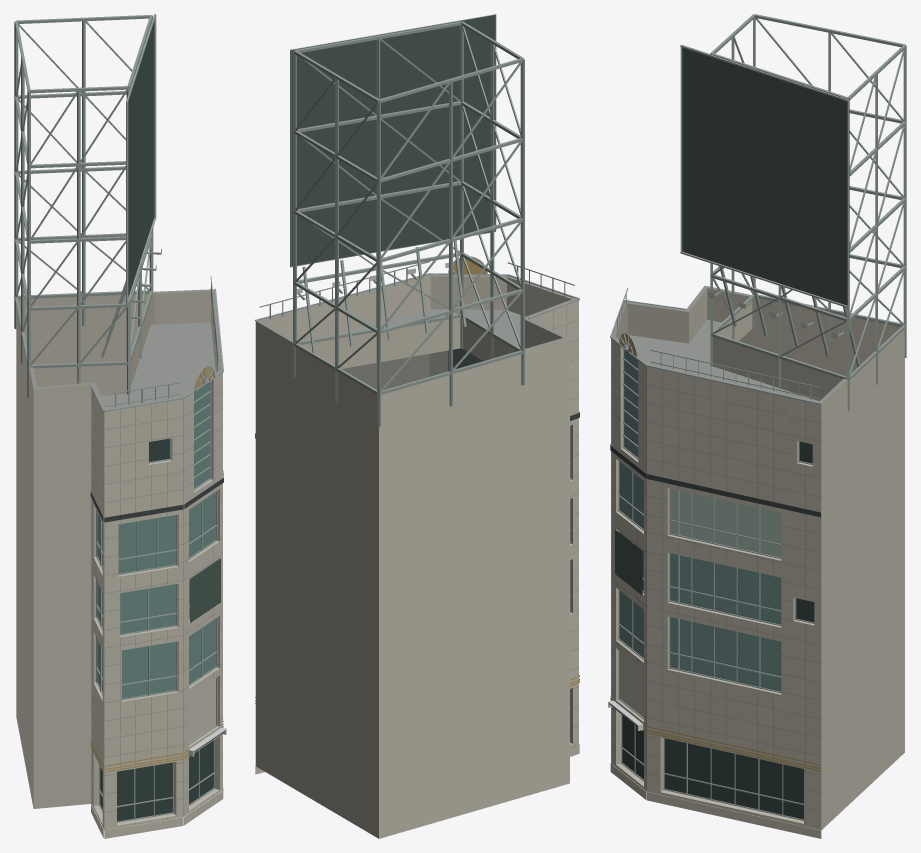
File: center244.glb
The picture shows the model from 3 angles, left to right: view 1: azimuth 30°, elevation 25°; view 2: azimuth 150°, elevation 25°; view 3: azimuth 270°, elevation 25°; orthographic projection. The views are drawn at different scales.
Visible parts, largest first — view 1: c244_stone_dark, c244_stone, c244_steel, c244_glass, c244_stone_light, c244_frame, c244_screen_back, c244_roof, c244_glass_dark, c244_joint, c244_reveal, c244_gold; view 2: c244_stone_dark, c244_screen_back, c244_steel, c244_joint, c244_roof, c244_stone, c244_frame, c244_stone_light; view 3: c244_stone_dark, c244_screen_back, c244_stone, c244_steel, c244_glass, c244_stone_light, c244_frame, c244_glass_dark, c244_blind, c244_joint, c244_roof, c244_reveal (+1 smaller).
Boxes of the visible parts, x1=… form: c244_stone_dark: x1=16, y1=291, x2=223, y2=838; c244_stone: x1=91, y1=373, x2=222, y2=830; c244_steel: x1=14, y1=15, x2=219, y2=407; c244_glass: x1=97, y1=382, x2=215, y2=698; c244_stone_light: x1=91, y1=393, x2=222, y2=824; c244_frame: x1=90, y1=14, x2=223, y2=822; c244_screen_back: x1=126, y1=14, x2=220, y2=622; c244_roof: x1=29, y1=289, x2=222, y2=410; c244_glass_dark: x1=100, y1=438, x2=213, y2=821; c244_joint: x1=92, y1=391, x2=222, y2=827; c244_reveal: x1=90, y1=471, x2=223, y2=522; c244_gold: x1=90, y1=718, x2=223, y2=772; c244_stone_dark: x1=255, y1=276, x2=579, y2=838; c244_screen_back: x1=290, y1=15, x2=495, y2=266; c244_steel: x1=259, y1=21, x2=574, y2=427; c244_joint: x1=255, y1=305, x2=578, y2=765; c244_roof: x1=256, y1=274, x2=576, y2=350; c244_stone: x1=552, y1=300, x2=578, y2=727; c244_frame: x1=255, y1=14, x2=579, y2=612; c244_stone_light: x1=541, y1=310, x2=578, y2=670; c244_stone_dark: x1=610, y1=288, x2=904, y2=838; c244_screen_back: x1=615, y1=45, x2=849, y2=595; c244_stone: x1=611, y1=346, x2=821, y2=830; c244_steel: x1=615, y1=14, x2=906, y2=411; c244_glass: x1=620, y1=350, x2=781, y2=691; c244_stone_light: x1=611, y1=339, x2=821, y2=819; c244_frame: x1=610, y1=45, x2=849, y2=820; c244_glass_dark: x1=622, y1=441, x2=814, y2=819; c244_blind: x1=670, y1=488, x2=781, y2=687; c244_joint: x1=611, y1=357, x2=820, y2=826; c244_roof: x1=611, y1=285, x2=846, y2=403; c244_reveal: x1=610, y1=350, x2=820, y2=698.
Size of the model in its own units: 11.98 by 33.65 by 12.7.
